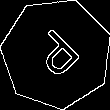P_SE: (26, 23, 87, 84)
